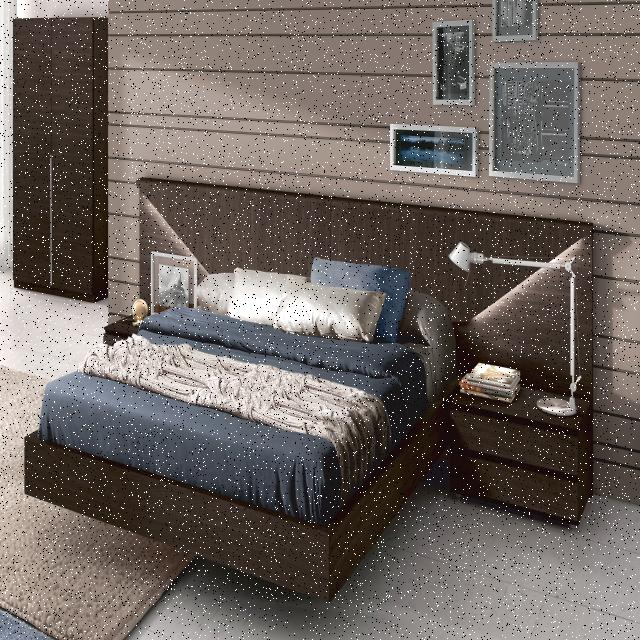bed: (37, 256, 447, 561)
